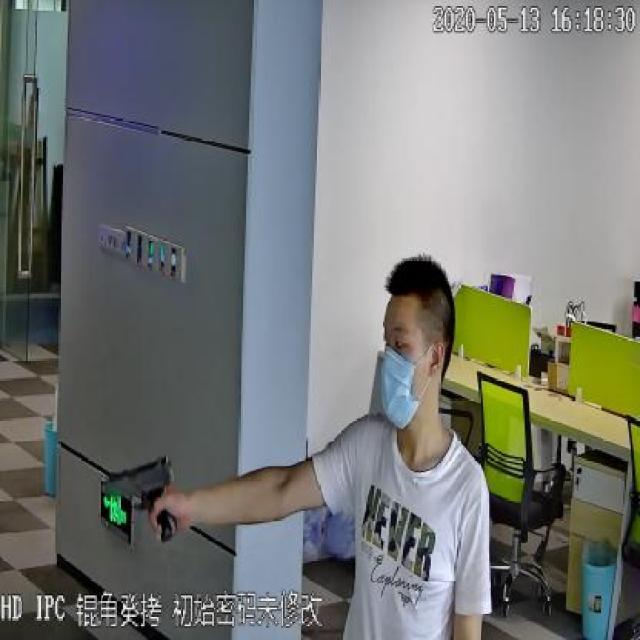gun: (100, 464, 191, 548)
